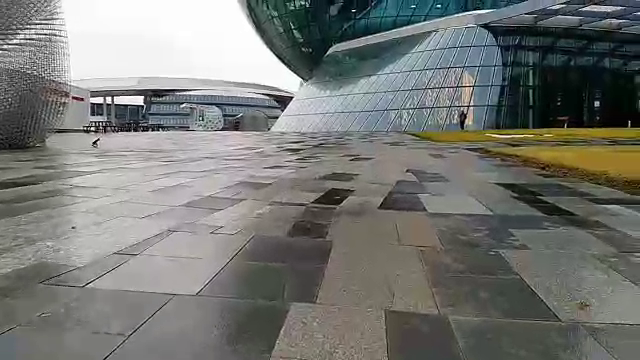kassa: (176, 97, 232, 137)
